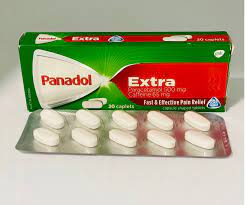Paracetamol: (36, 74, 178, 87), (39, 34, 101, 42)
